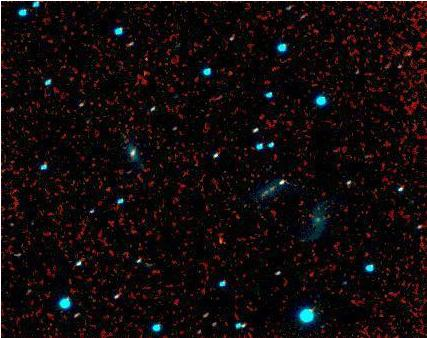star: (204, 224, 234, 254)
